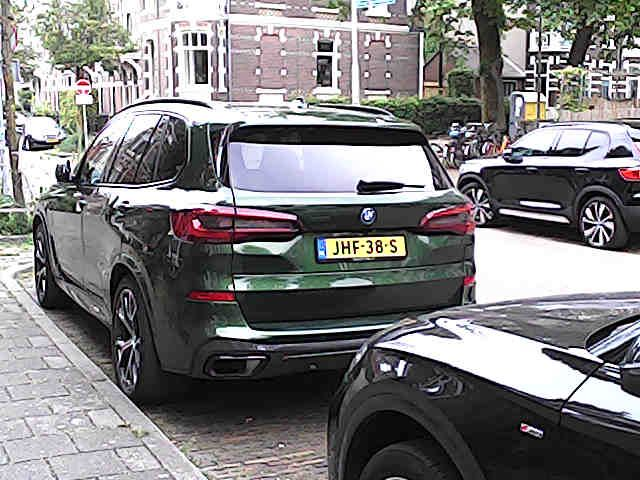suv: (34, 99, 474, 400), (328, 293, 639, 479), (458, 122, 639, 248), (22, 116, 65, 149)
